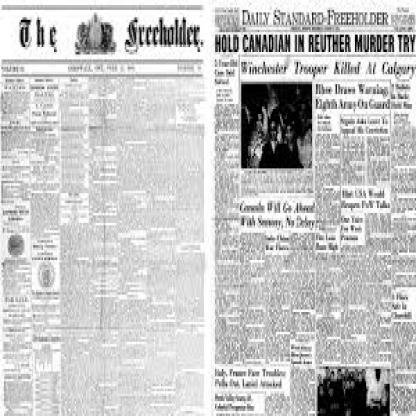paper: (0, 0, 415, 414), (208, 0, 415, 414), (0, 0, 207, 414)
